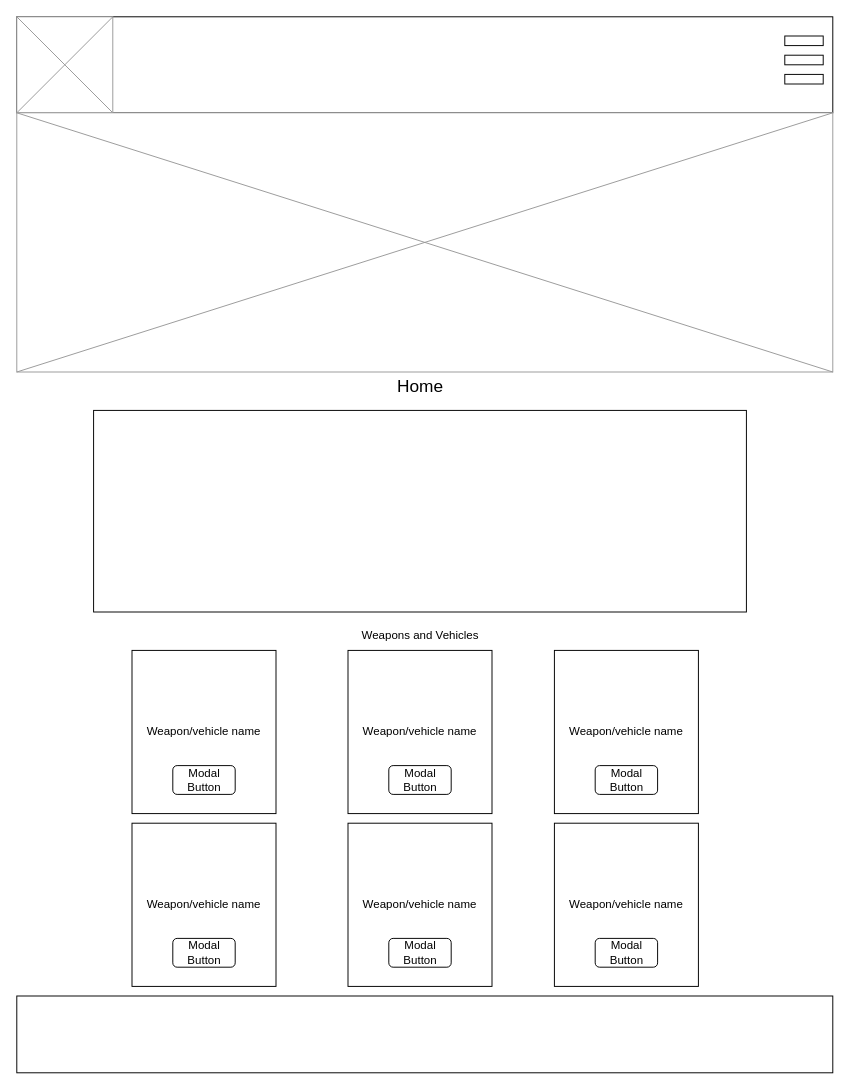
Image size: 850x1090. Some labels were removed from this diagram. Each missing label, with the box of its shape:
Footer Content: (16, 995, 833, 1073)
Site Name: (16, 112, 833, 372)
Summary of Star Wars: (93, 409, 746, 612)
